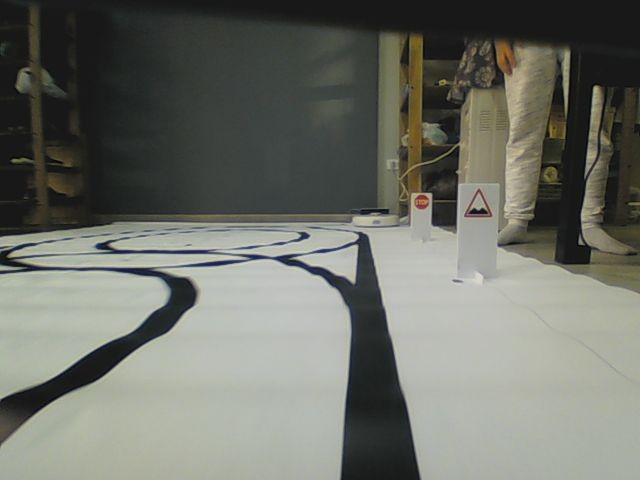Nerov: (463, 187, 492, 219)
